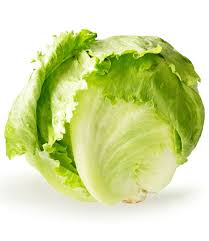lettuce: (7, 29, 203, 199)
